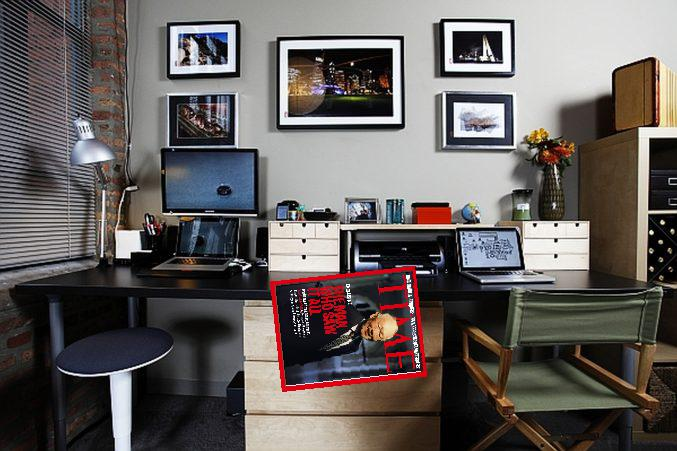times: (267, 265, 429, 392)
